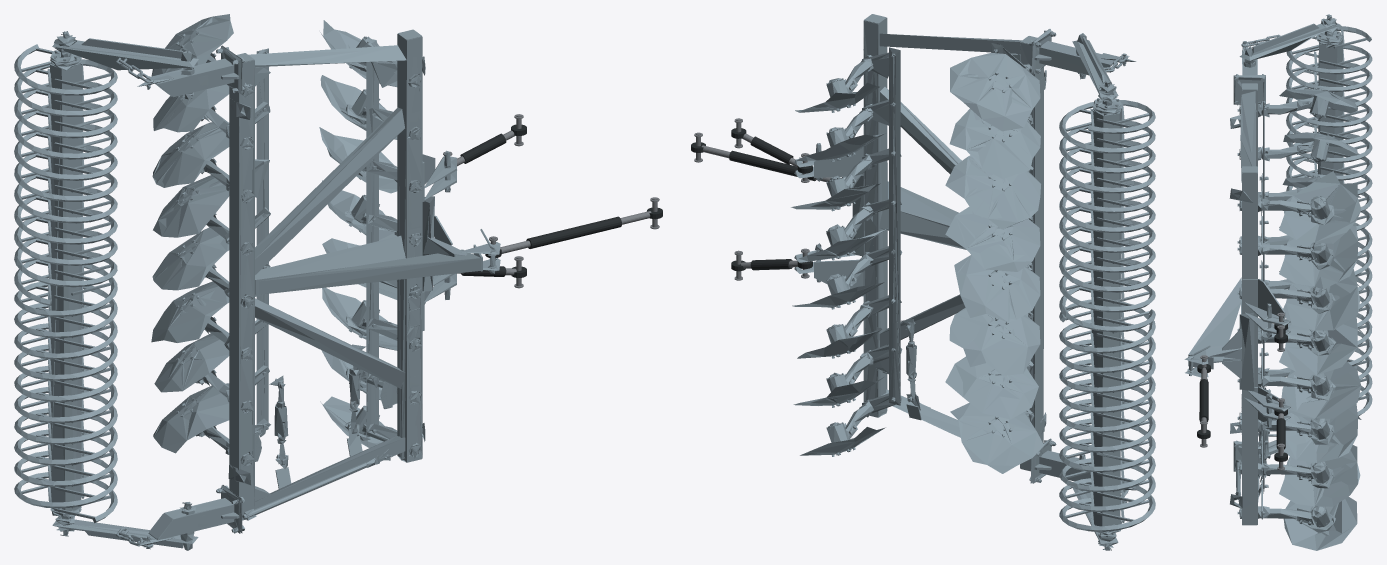
Rendered from implement_mounted_disc_harrow_visual.obj.
The picture shows the model from 3 angles, left to right: view 1: azimuth 30°, elevation 25°; view 2: azimuth 150°, elevation 25°; view 3: azimuth 270°, elevation 25°; orthographic projection. The views are drawn at different scales.
Visible parts, largest first — view 1: solid_786, solid_787, solid_16, solid_783, solid_7, solid_4, solid_38, solid_3, solid_769, solid_1382, solid_1472, solid_1832 (+22 smaller); view 2: solid_787, solid_786, solid_783, solid_7, solid_1204, solid_769, solid_1652, solid_1382, solid_1832, solid_1562, solid_1472, solid_1292 (+22 smaller); view 3: solid_787, solid_7, solid_127, solid_655, solid_479, solid_215, solid_303, solid_391, solid_567, solid_743, solid_786, solid_783 (+32 smaller).
Boxes of the visible parts, box(x1,y1,x2,y2) form: solid_786: box(14, 264, 117, 523); solid_787: box(14, 44, 117, 305); solid_16: box(229, 60, 254, 519); solid_783: box(50, 63, 82, 510); solid_7: box(397, 33, 422, 462); solid_4: box(255, 107, 404, 274); solid_38: box(259, 249, 480, 294); solid_3: box(255, 298, 405, 388); solid_769: box(366, 62, 378, 437); solid_1382: box(152, 122, 229, 187); solid_1472: box(153, 175, 229, 237); solid_1832: box(153, 383, 229, 453); solid_787: box(1059, 100, 1155, 332); solid_786: box(1059, 299, 1155, 531); solid_783: box(1091, 109, 1121, 526); solid_7: box(863, 18, 887, 417); solid_1204: box(950, 53, 1040, 131); solid_769: box(889, 47, 900, 405); solid_1652: box(949, 308, 1040, 375); solid_1382: box(945, 155, 1040, 229); solid_1832: box(950, 403, 1043, 473); solid_1562: box(954, 255, 1040, 322); solid_1472: box(945, 206, 1040, 271); solid_1292: box(949, 109, 1040, 179); solid_787: box(1286, 26, 1372, 230); solid_7: box(1242, 167, 1257, 524); solid_127: box(1279, 171, 1361, 243); solid_655: box(1279, 445, 1360, 506); solid_479: box(1281, 362, 1361, 418); solid_215: box(1279, 225, 1357, 289); solid_303: box(1283, 269, 1359, 330); solid_391: box(1279, 315, 1357, 374); solid_567: box(1284, 403, 1357, 462); solid_743: box(1283, 496, 1357, 550); solid_786: box(1286, 222, 1372, 416); solid_783: box(1318, 38, 1342, 183).
Bounding box in the file's own units: 3.37 × 2.86 × 1.16.
